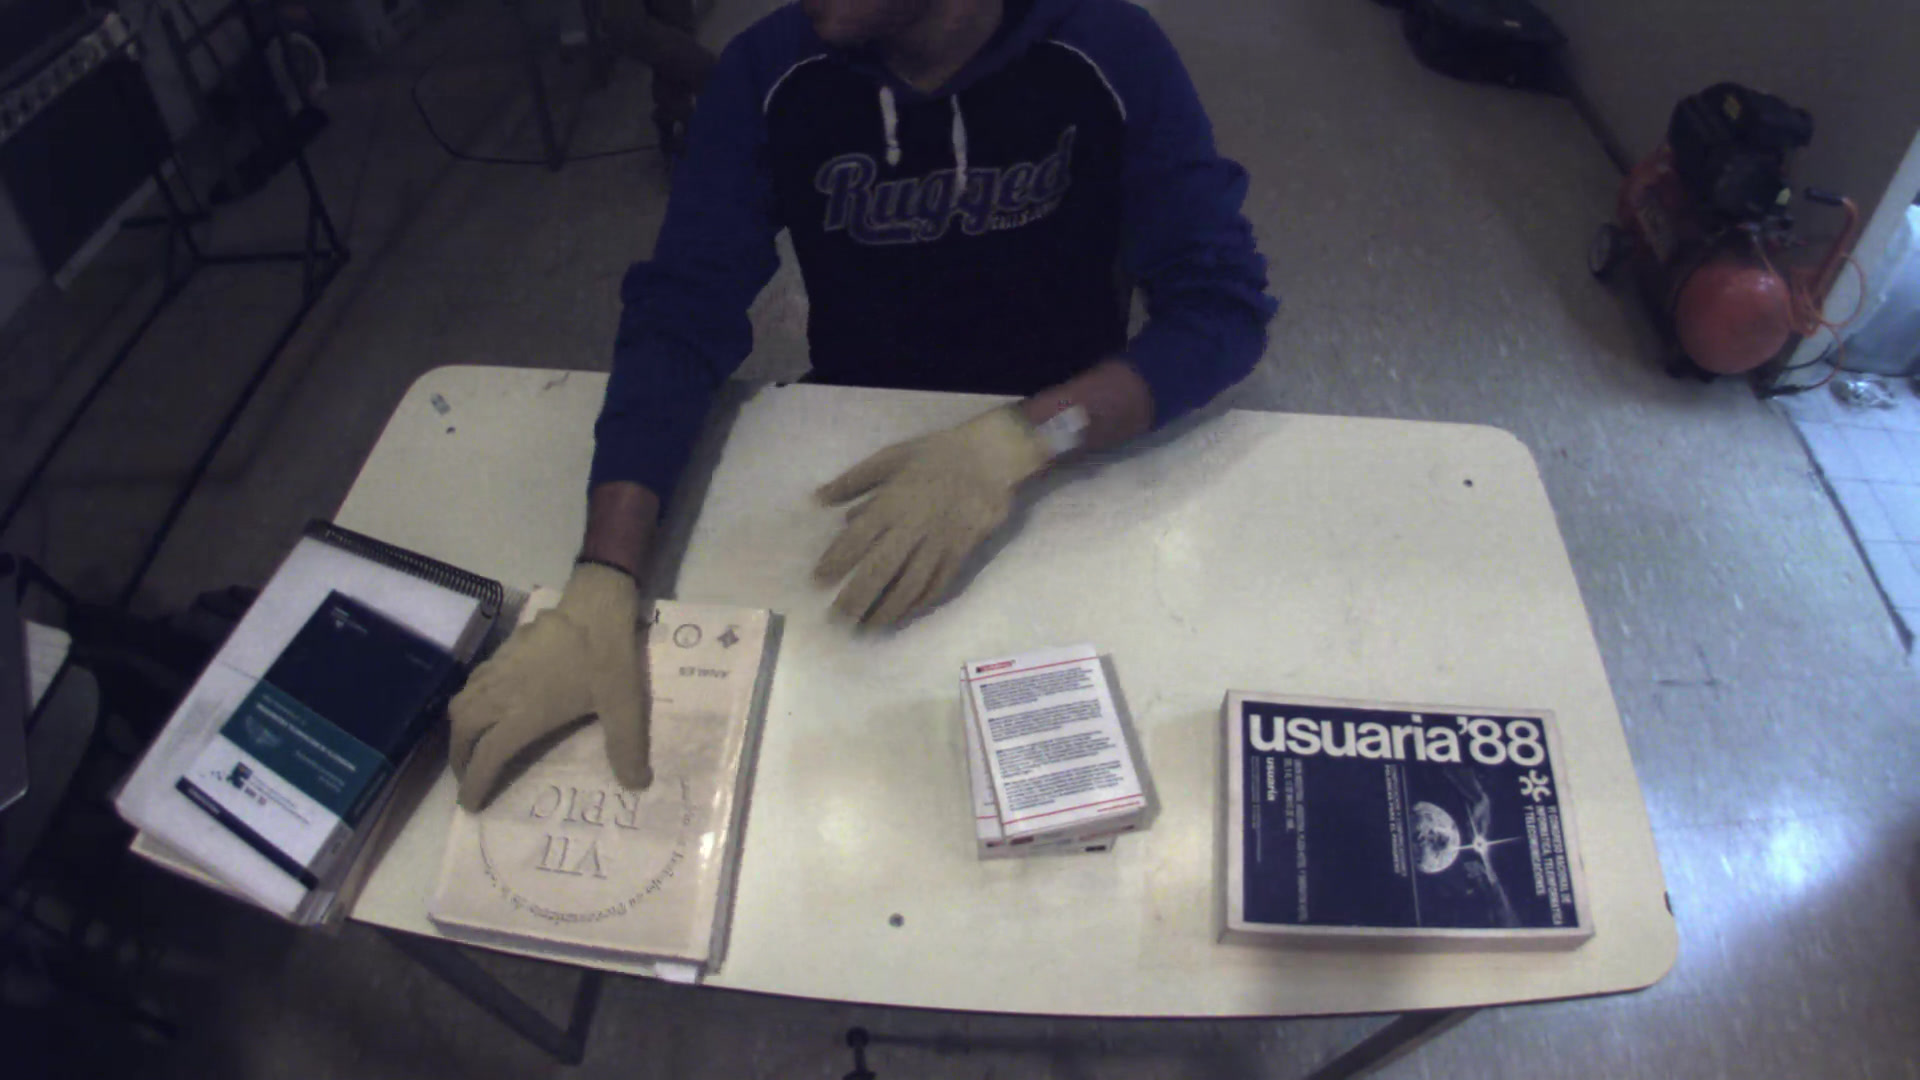hand: (794, 382, 1055, 640), (430, 558, 659, 823)
